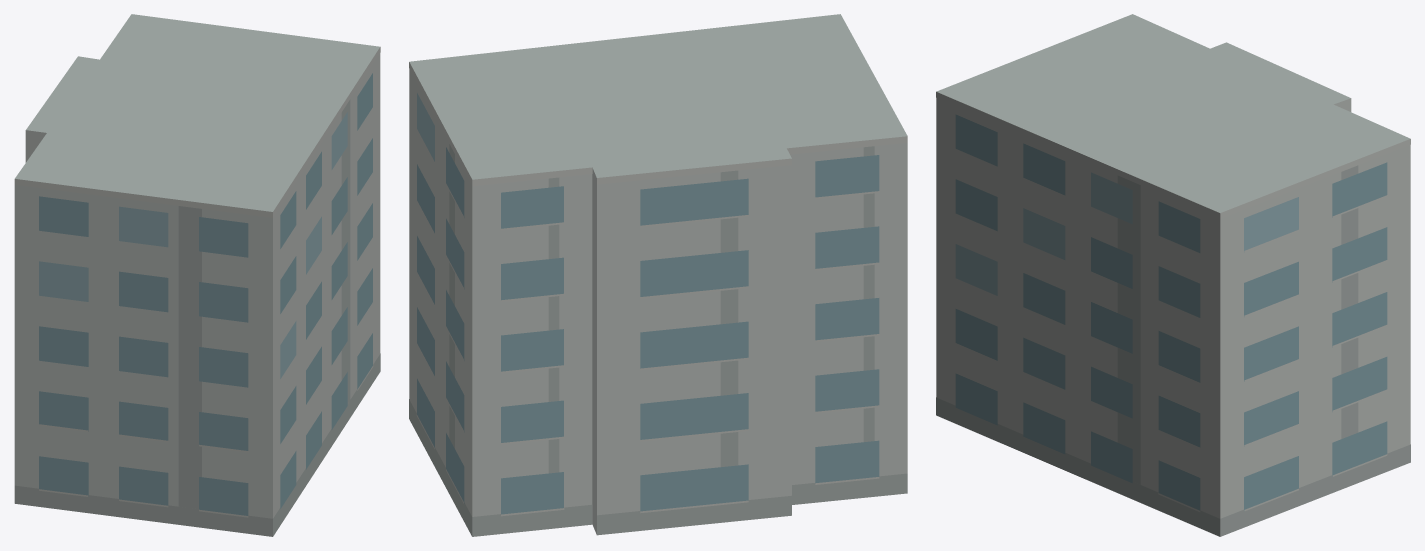
File: survey-upis-32886785.glb
3 views of the same model, side by side, from view 1: azimuth 30°, elevation 25°; view 2: azimuth 150°, elevation 25°; view 3: azimuth 270°, elevation 25° (orthographic). The views are drawn at different scales.
Parts seen in each view (by area): view 1: survey-upis-32886785.tmp; view 2: survey-upis-32886785.tmp; view 3: survey-upis-32886785.tmp.
Boxes of the visible parts, x1,y1,x2,y2 form: survey-upis-32886785.tmp: (14,14,380,536); survey-upis-32886785.tmp: (409,14,907,536); survey-upis-32886785.tmp: (936,14,1410,536).
Bounding box in the file's own units: 17.29 × 13.1 × 17.41.
